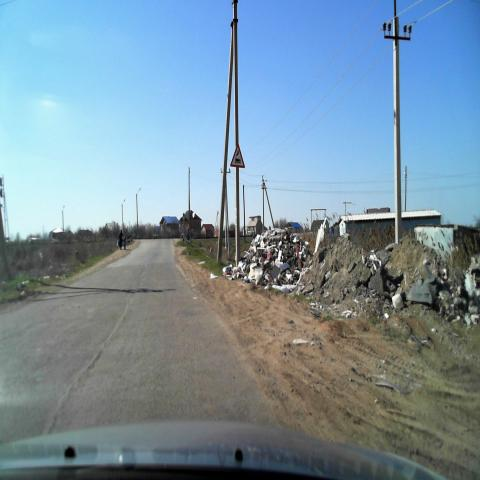1_2: (230, 144, 245, 168)
